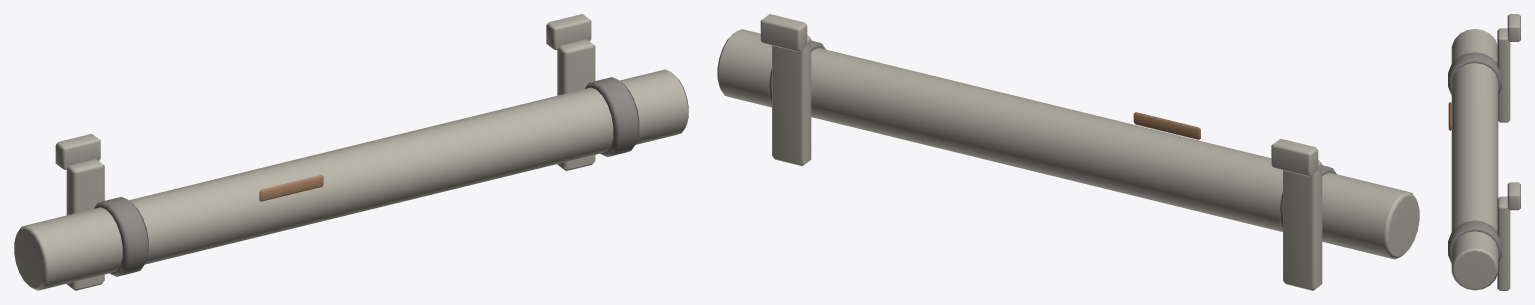
Rendered from Pipe_Straight_A.glb.
3 views of the same model, side by side, from view 1: azimuth 30°, elevation 25°; view 2: azimuth 150°, elevation 25°; view 3: azimuth 270°, elevation 25° (orthographic). The views are drawn at different scales.
Visible parts, largest first — view 1: Pipe_Straight_A_tube, Pipe_Straight_A_wall_bracket_0.38, Pipe_Straight_A_wall_bracket_-0.38, Pipe_Straight_A_ring_-0.38, Pipe_Straight_A_ring_0.38, Pipe_Straight_A_bracket_tab_-0.38, Pipe_Straight_A_bracket_tab_0.38, Pipe_Straight_A_rust_patch; view 2: Pipe_Straight_A_tube, Pipe_Straight_A_wall_bracket_0.38, Pipe_Straight_A_wall_bracket_-0.38, Pipe_Straight_A_bracket_tab_-0.38, Pipe_Straight_A_bracket_tab_0.38, Pipe_Straight_A_rust_patch; view 3: Pipe_Straight_A_tube, Pipe_Straight_A_wall_bracket_0.38, Pipe_Straight_A_wall_bracket_-0.38, Pipe_Straight_A_ring_0.38, Pipe_Straight_A_ring_-0.38, Pipe_Straight_A_bracket_tab_0.38, Pipe_Straight_A_bracket_tab_-0.38, Pipe_Straight_A_rust_patch.
Part boxes in pixels (box(x1,y1,x2,y2)): Pipe_Straight_A_tube: box(14, 69, 688, 290); Pipe_Straight_A_wall_bracket_0.38: box(557, 39, 595, 171); Pipe_Straight_A_wall_bracket_-0.38: box(66, 159, 104, 290); Pipe_Straight_A_ring_-0.38: box(94, 197, 148, 276); Pipe_Straight_A_ring_0.38: box(584, 77, 639, 156); Pipe_Straight_A_bracket_tab_-0.38: box(55, 133, 100, 169); Pipe_Straight_A_bracket_tab_0.38: box(546, 14, 591, 50); Pipe_Straight_A_rust_patch: box(259, 174, 323, 201); Pipe_Straight_A_tube: box(717, 29, 1419, 259); Pipe_Straight_A_wall_bracket_0.38: box(772, 35, 811, 166); Pipe_Straight_A_wall_bracket_-0.38: box(1283, 160, 1322, 290); Pipe_Straight_A_bracket_tab_-0.38: box(1271, 138, 1318, 176); Pipe_Straight_A_bracket_tab_0.38: box(760, 14, 807, 51); Pipe_Straight_A_rust_patch: box(1133, 112, 1200, 139); Pipe_Straight_A_tube: box(1451, 29, 1498, 290); Pipe_Straight_A_wall_bracket_0.38: box(1497, 196, 1510, 290); Pipe_Straight_A_wall_bracket_-0.38: box(1497, 28, 1510, 122); Pipe_Straight_A_ring_0.38: box(1448, 220, 1501, 263); Pipe_Straight_A_ring_-0.38: box(1448, 52, 1501, 94); Pipe_Straight_A_bracket_tab_0.38: box(1507, 182, 1520, 210); Pipe_Straight_A_bracket_tab_-0.38: box(1507, 14, 1520, 41); Pipe_Straight_A_rust_patch: box(1448, 102, 1451, 130).
Size of the model in its own units: 1 by 0.2075 by 0.1387.
